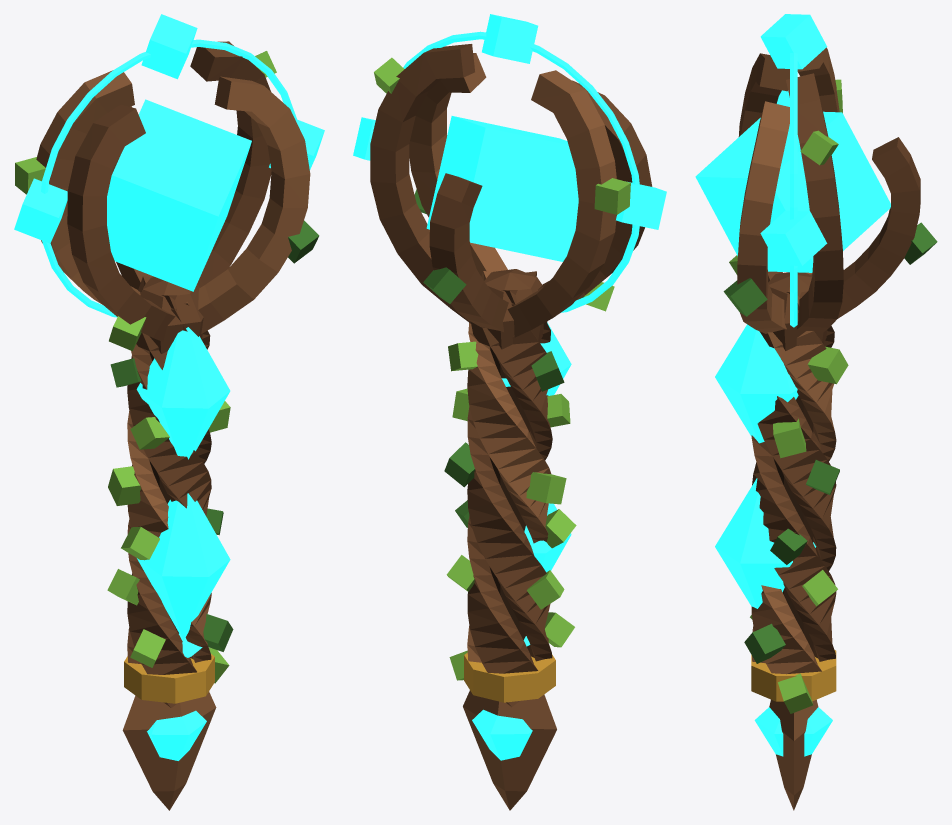
The model's file is worldroot_staff.glb.
The picture shows the model from 3 angles, left to right: view 1: azimuth 30°, elevation 25°; view 2: azimuth 150°, elevation 25°; view 3: azimuth 270°, elevation 25°; orthographic projection.
Visible parts, largest first — view 1: Glow_Orb, root_claw_R_inner, root_claw_L_inner, Glow_Shard_2, Glow_Shard_1, root_claw_R_outer, root_claw_L_outer, foot_spike, root_3, root_1, root_2, Glow_Halo (+16 smaller); view 2: Glow_Orb, root_claw_L_outer, root_claw_R_outer, root_1, root_3, root_2, root_claw_back, root_claw_R_inner, foot_spike, root_claw_L_inner, Glow_Halo, gold_band (+20 smaller); view 3: Glow_Orb, root_claw_R_outer, root_claw_R_inner, root_2, root_claw_back, root_1, Glow_Shard_1, root_3, Glow_Shard_2, foot_spike, Glow_Sat_Right, Glow_Sat_Top (+17 smaller).
Boxes of the visible parts, box(x1,y1,x2,y2) form: Glow_Orb: box(107, 99, 251, 291); root_claw_R_inner: box(198, 76, 310, 333); root_claw_L_inner: box(67, 105, 175, 341); Glow_Shard_2: box(137, 493, 230, 640); Glow_Shard_1: box(136, 327, 230, 459); root_claw_R_outer: box(190, 41, 271, 287); root_claw_L_outer: box(36, 70, 140, 304); foot_spike: box(122, 691, 216, 810); root_3: box(127, 295, 211, 707); root_1: box(127, 276, 211, 664); root_2: box(127, 302, 211, 662); Glow_Halo: box(41, 39, 297, 317); Glow_Orb: box(426, 116, 578, 261); root_claw_L_outer: box(507, 70, 616, 337); root_claw_R_outer: box(370, 44, 474, 323); root_1: box(467, 290, 552, 706); root_3: box(467, 271, 552, 661); root_2: box(467, 271, 551, 662); root_claw_back: box(429, 173, 508, 331); root_claw_R_inner: box(409, 53, 507, 276); foot_spike: box(463, 690, 556, 810); root_claw_L_inner: box(538, 80, 652, 300); Glow_Halo: box(403, 31, 639, 312); gold_band: box(464, 652, 555, 702); Glow_Orb: box(695, 111, 890, 272); root_claw_R_outer: box(786, 73, 843, 332); root_claw_R_inner: box(737, 101, 789, 333); root_2: box(751, 292, 836, 674); root_claw_back: box(837, 137, 920, 318); root_1: box(751, 274, 836, 661); Glow_Shard_1: box(715, 324, 798, 443); root_3: box(752, 273, 836, 663); Glow_Shard_2: box(715, 478, 816, 608); foot_spike: box(769, 699, 818, 810); Glow_Sat_Right: box(760, 210, 827, 265); Glow_Sat_Top: box(760, 14, 827, 69).
Size of the model in its own units: 0.8073 by 2.02 by 0.5568.
